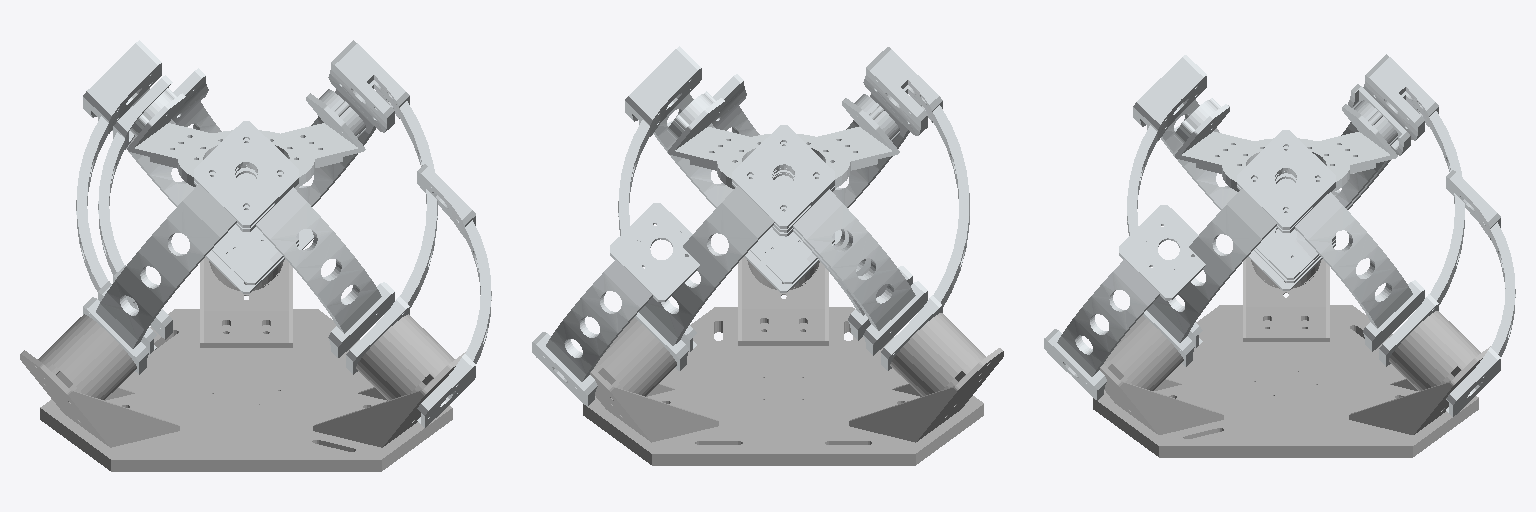
URDF robot description (Spherical_Parallel3.0):
<?xml version="1.0" encoding="utf-8"?>
<!-- This URDF was automatically created by SolidWorks to URDF Exporter! Originally created by Stephen Brawner (brawner@gmail.com) 
     Commit Version: 1.6.0-4-g7f85cfe  Build Version: 1.6.7995.38578
     For more information, please see http://wiki.ros.org/sw_urdf_exporter -->
<robot
  name="Spherical_Parallel3.0">
  <link
    name="S1_base_link">
    <inertial>
      <origin
        xyz="4.83843121955233E-06 -8.38041007873242E-06 0.00921106157110024"
        rpy="0 0 0" />
      <mass
        value="0.383954508133489" />
      <inertia
        ixx="0.000279103390586857"
        ixy="-3.02891552499976E-06"
        ixz="1.56101351748239E-17"
        iyy="0.000282600880973714"
        iyz="1.42980227382568E-16"
        izz="0.000538960992417047" />
    </inertial>
    <visual>
      <origin
        xyz="0 0 0"
        rpy="0 0 0" />
      <geometry>
        <mesh
          filename="package://Spherical_Parallel3.0/meshes/S1_base_link.STL" />
      </geometry>
      <material
        name="">
        <color
          rgba="0.752941176470588 0.752941176470588 0.752941176470588 1" />
      </material>
    </visual>
    <collision>
      <origin
        xyz="0 0 0"
        rpy="0 0 0" />
      <geometry>
        <mesh
          filename="package://Spherical_Parallel3.0/meshes/S1_base_link.STL" />
      </geometry>
    </collision>
  </link>
  <link
    name="S1_base_proximal_Link1">
    <inertial>
      <origin
        xyz="0.0394266555578629 0.0156150450745581 0.0481638125806377"
        rpy="0 0 0" />
      <mass
        value="0.0723708688376402" />
      <inertia
        ixx="5.34836998471512E-05"
        ixy="1.56730810847073E-05"
        ixz="-2.64879755980296E-05"
        iyy="7.75210527903698E-05"
        iyz="-1.04694439328077E-08"
        izz="6.80404042701312E-05" />
    </inertial>
    <visual>
      <origin
        xyz="0 0 0"
        rpy="0 0 0" />
      <geometry>
        <mesh
          filename="package://Spherical_Parallel3.0/meshes/S1_base_proximal_Link1.STL" />
      </geometry>
      <material
        name="">
        <color
          rgba="0.898039215686275 0.917647058823529 0.929411764705882 1" />
      </material>
    </visual>
    <collision>
      <origin
        xyz="0 0 0"
        rpy="0 0 0" />
      <geometry>
        <mesh
          filename="package://Spherical_Parallel3.0/meshes/S1_base_proximal_Link1.STL" />
      </geometry>
    </collision>
  </link>
  <joint
    name="S1_base_proximal_Joint1"
    type="revolute">
    <origin
      xyz="-0.0553071219502084 -1.82236126083718E-05 0.0372072256031851"
      rpy="-0.785398163397445 -0.615479708670383 -2.09439510239319" />
    <parent
      link="S1_base_link" />
    <child
      link="S1_base_proximal_Link1" />
    <axis
      xyz="0 0 -1" />
    <limit
      lower="0"
      upper="0"
      effort="0"
      velocity="0" />
  </joint>
  <link
    name="S1_intermediate_distal_Link1">
    <inertial>
      <origin
        xyz="0.0276162169494415 -2.2103393455819E-09 0.016604279242538"
        rpy="0 0 0" />
      <mass
        value="0.0249434660620518" />
      <inertia
        ixx="1.23287454032943E-05"
        ixy="-3.16358155204649E-13"
        ixz="-1.02513914563365E-05"
        iyy="2.31995059108402E-05"
        iyz="-1.03787602539361E-12"
        izz="1.41903412871279E-05" />
    </inertial>
    <visual>
      <origin
        xyz="0 0 0"
        rpy="0 0 0" />
      <geometry>
        <mesh
          filename="package://Spherical_Parallel3.0/meshes/S1_intermediate_distal_Link1.STL" />
      </geometry>
      <material
        name="">
        <color
          rgba="0.898039215686275 0.917647058823529 0.929411764705882 1" />
      </material>
    </visual>
    <collision>
      <origin
        xyz="0 0 0"
        rpy="0 0 0" />
      <geometry>
        <mesh
          filename="package://Spherical_Parallel3.0/meshes/S1_intermediate_distal_Link1.STL" />
      </geometry>
    </collision>
  </link>
  <joint
    name="S1_intermediate_distal_Joint1"
    type="revolute">
    <origin
      xyz="0 0.0515000000000001 0.06775"
      rpy="1.5707963267949 0 0" />
    <parent
      link="S1_base_proximal_Link1" />
    <child
      link="S1_intermediate_distal_Link1" />
    <axis
      xyz="0 0 1" />
    <limit
      lower="0"
      upper="0"
      effort="0"
      velocity="0" />
  </joint>
  <link
    name="S1_distal_platform_Link1">
    <inertial>
      <origin
        xyz="0 0 0"
        rpy="0 0 0" />
      <mass
        value="0" />
      <inertia
        ixx="1e-9"
        ixy="0"
        ixz="0"
        iyy="1e-9"
        iyz="0"
        izz="1e-9" />
    </inertial>
  </link>
  <joint
    name="S1_distal_platform_Joint1"
    type="revolute">
    <origin
      xyz="0.0555 0 0.0515000000000002"
      rpy="3.14159265358979 1.57079631189374 -2.5042761448487" />
    <parent
      link="S1_intermediate_distal_Link1" />
    <child
      link="S1_distal_platform_Link1" />
    <axis
      xyz="0 0 -1" />
    <limit
      lower="0"
      upper="0"
      effort="0"
      velocity="0" />
  </joint>
  <link
    name="S1_base_proximal_Link2">
    <inertial>
      <origin
        xyz="0.0394266611515091 0.0156150474102847 0.0481638009867669"
        rpy="0 0 0" />
      <mass
        value="0.072370813478773" />
      <inertia
        ixx="5.34836949402529E-05"
        ixy="1.56730710204049E-05"
        ixz="-2.64879777611082E-05"
        iyy="7.75210508818692E-05"
        iyz="-1.04596703085595E-08"
        izz="6.8040392668426E-05" />
    </inertial>
    <visual>
      <origin
        xyz="0 0 0"
        rpy="0 0 0" />
      <geometry>
        <mesh
          filename="package://Spherical_Parallel3.0/meshes/S1_base_proximal_Link2.STL" />
      </geometry>
      <material
        name="">
        <color
          rgba="0.898039215686275 0.917647058823529 0.929411764705882 1" />
      </material>
    </visual>
    <collision>
      <origin
        xyz="0 0 0"
        rpy="0 0 0" />
      <geometry>
        <mesh
          filename="package://Spherical_Parallel3.0/meshes/S1_base_proximal_Link2.STL" />
      </geometry>
    </collision>
  </link>
  <joint
    name="S1_base_proximal_Joint2"
    type="revolute">
    <origin
      xyz="0.0276693430865716 -0.0479247080379969 0.0372072256031854"
      rpy="-0.785398163397448 -0.615479708670388 0" />
    <parent
      link="S1_base_link" />
    <child
      link="S1_base_proximal_Link2" />
    <axis
      xyz="0 0 -1" />
    <limit
      lower="0"
      upper="0"
      effort="0"
      velocity="0" />
  </joint>
  <link
    name="S1_intermediate_distal_Link2">
    <inertial>
      <origin
        xyz="0.0276162724495207 -2.56363465872544E-09 0.0166042770917791"
        rpy="0 0 0" />
      <mass
        value="0.0249434008867252" />
      <inertia
        ixx="1.23287424080632E-05"
        ixy="1.00356953657859E-12"
        ixz="-1.02513872579272E-05"
        iyy="2.31995048527672E-05"
        iyz="-1.19413555056685E-12"
        izz="1.4190346123321E-05" />
    </inertial>
    <visual>
      <origin
        xyz="0 0 0"
        rpy="0 0 0" />
      <geometry>
        <mesh
          filename="package://Spherical_Parallel3.0/meshes/S1_intermediate_distal_Link2.STL" />
      </geometry>
      <material
        name="">
        <color
          rgba="0.898039215686275 0.917647058823529 0.929411764705882 1" />
      </material>
    </visual>
    <collision>
      <origin
        xyz="0 0 0"
        rpy="0 0 0" />
      <geometry>
        <mesh
          filename="package://Spherical_Parallel3.0/meshes/S1_intermediate_distal_Link2.STL" />
      </geometry>
    </collision>
  </link>
  <joint
    name="S1_intermediate_distal_Joint2"
    type="revolute">
    <origin
      xyz="0 0.0515 0.06775"
      rpy="1.5707963267949 0 0" />
    <parent
      link="S1_base_proximal_Link2" />
    <child
      link="S1_intermediate_distal_Link2" />
    <axis
      xyz="0 0 1" />
    <limit
      lower="0"
      upper="0"
      effort="0"
      velocity="0" />
  </joint>
  <link
    name="S1_distal_platform_Link2">
    <inertial>
      <origin
        xyz="0 0 0"
        rpy="0 0 0" />
      <mass
        value="0" />
      <inertia
        ixx="1e-9"
        ixy="0"
        ixz="0"
        iyy="1e-9"
        iyz="0"
        izz="1e-9" />
    </inertial>
  </link>
  <joint
    name="S1_distal_platform_Joint2"
    type="revolute">
    <origin
      xyz="0.0555 0 0.0515000000000002"
      rpy="3.14159263251637 1.5707963267949 0" />
    <parent
      link="S1_intermediate_distal_Link2" />
    <child
      link="S1_distal_platform_Link2" />
    <axis
      xyz="0 0 1" />
    <limit
      lower="0"
      upper="0"
      effort="0"
      velocity="0" />
  </joint>
  <link
    name="S1_base_proximal_Link3">
    <inertial>
      <origin
        xyz="0.0394266547391432 0.0156150168228698 0.0481637981881163"
        rpy="0 0 0" />
      <mass
        value="0.0723709631846189" />
      <inertia
        ixx="5.34837990510187E-05"
        ixy="1.56730722644498E-05"
        ixz="-2.64880476589497E-05"
        iyy="7.75212034209213E-05"
        iyz="-1.04670720804903E-08"
        izz="6.80404534420661E-05" />
    </inertial>
    <visual>
      <origin
        xyz="0 0 0"
        rpy="0 0 0" />
      <geometry>
        <mesh
          filename="package://Spherical_Parallel3.0/meshes/S1_base_proximal_Link3.STL" />
      </geometry>
      <material
        name="">
        <color
          rgba="0.898039215686275 0.917647058823529 0.929411764705882 1" />
      </material>
    </visual>
    <collision>
      <origin
        xyz="0 0 0"
        rpy="0 0 0" />
      <geometry>
        <mesh
          filename="package://Spherical_Parallel3.0/meshes/S1_base_proximal_Link3.STL" />
      </geometry>
    </collision>
  </link>
  <joint
    name="S1_base_proximal_Joint3"
    type="revolute">
    <origin
      xyz="0.0276693430865719 0.0478882608127805 0.0372072256031854"
      rpy="-0.785398163397455 -0.615479708670384 2.0943951023932" />
    <parent
      link="S1_base_link" />
    <child
      link="S1_base_proximal_Link3" />
    <axis
      xyz="0 0 -1" />
    <limit
      lower="0"
      upper="0"
      effort="0"
      velocity="0" />
  </joint>
  <link
    name="S1_intermediate_distal_Link3">
    <inertial>
      <origin
        xyz="0.0276162699864968 -5.75903416275003E-09 0.0166042723305424"
        rpy="0 0 0" />
      <mass
        value="0.0249434138951247" />
      <inertia
        ixx="1.2328741879394E-05"
        ixy="-1.74451381270051E-12"
        ixz="-1.02513859626617E-05"
        iyy="2.31995018577349E-05"
        iyz="-1.15965213593531E-12"
        izz="1.41903422898734E-05" />
    </inertial>
    <visual>
      <origin
        xyz="0 0 0"
        rpy="0 0 0" />
      <geometry>
        <mesh
          filename="package://Spherical_Parallel3.0/meshes/S1_intermediate_distal_Link3.STL" />
      </geometry>
      <material
        name="">
        <color
          rgba="0.898039215686275 0.917647058823529 0.929411764705882 1" />
      </material>
    </visual>
    <collision>
      <origin
        xyz="0 0 0"
        rpy="0 0 0" />
      <geometry>
        <mesh
          filename="package://Spherical_Parallel3.0/meshes/S1_intermediate_distal_Link3.STL" />
      </geometry>
    </collision>
  </link>
  <joint
    name="S1_intermediate_distal_Joint3"
    type="revolute">
    <origin
      xyz="0 0.0514999999999999 0.0677500000000001"
      rpy="1.5707963267949 0 0" />
    <parent
      link="S1_base_proximal_Link3" />
    <child
      link="S1_intermediate_distal_Link3" />
    <axis
      xyz="0 0 1" />
    <limit
      lower="0"
      upper="0"
      effort="0"
      velocity="0" />
  </joint>
  <link
    name="S1_distal_platform_Link3">
    <inertial>
      <origin
        xyz="-0.0130772772289899 -0.0130772772289899 0.0424227227710099"
        rpy="0 0 0" />
      <mass
        value="0.0449010465380491" />
      <inertia
        ixx="8.16628762450826E-06"
        ixy="1.65084933290385E-06"
        ixz="1.65084933290384E-06"
        iyy="8.16628762450826E-06"
        iyz="1.65084933290385E-06"
        izz="8.16628762450824E-06" />
    </inertial>
    <visual>
      <origin
        xyz="0 0 0"
        rpy="0 0 0" />
      <geometry>
        <mesh
          filename="package://Spherical_Parallel3.0/meshes/S1_distal_platform_Link3.STL" />
      </geometry>
      <material
        name="">
        <color
          rgba="0.898039215686275 0.917647058823529 0.929411764705882 1" />
      </material>
    </visual>
    <collision>
      <origin
        xyz="0 0 0"
        rpy="0 0 0" />
      <geometry>
        <mesh
          filename="package://Spherical_Parallel3.0/meshes/S1_distal_platform_Link3.STL" />
      </geometry>
    </collision>
  </link>
  <joint
    name="S1_distal_platform_Joint3"
    type="revolute">
    <origin
      xyz="0.0555 0 0.0515000000000002"
      rpy="3.14159262778022 1.5707963267949 0" />
    <parent
      link="S1_intermediate_distal_Link3" />
    <child
      link="S1_distal_platform_Link3" />
    <axis
      xyz="0 0 1" />
    <limit
      lower="0"
      upper="0"
      effort="0"
      velocity="0" />
  </joint>
</robot>

--- What the picture shows (computed from the rendered views, not written in the file) ---
3 views of the same robot in one strip: view 1: azimuth 30°, elevation 25°; view 2: azimuth 150°, elevation 25°; view 3: azimuth 270°, elevation 25° (orthographic).
Robot: Spherical_Parallel3.0 — 10 links, 9 joints (9 revolute); root link S1_base_link; default pose: all joints at 0.
Links seen in each view (by area): view 1: S1_base_link, S1_base_proximal_Link1, S1_base_proximal_Link2, S1_distal_platform_Link3, S1_base_proximal_Link3, S1_intermediate_distal_Link1, S1_intermediate_distal_Link3, S1_intermediate_distal_Link2; view 2: S1_base_link, S1_base_proximal_Link3, S1_intermediate_distal_Link2, S1_base_proximal_Link1, S1_distal_platform_Link3, S1_base_proximal_Link2, S1_intermediate_distal_Link1, S1_intermediate_distal_Link3; view 3: S1_base_link, S1_base_proximal_Link2, S1_intermediate_distal_Link1, S1_distal_platform_Link3, S1_base_proximal_Link3, S1_base_proximal_Link1, S1_intermediate_distal_Link2, S1_intermediate_distal_Link3.
Boxes of the visible links, box(x1,y1,x2,y2) form: S1_base_link: box(20, 257, 465, 471); S1_base_proximal_Link1: box(83, 121, 394, 374); S1_base_proximal_Link2: box(212, 40, 437, 374); S1_distal_platform_Link3: box(127, 88, 365, 188); S1_base_proximal_Link3: box(76, 40, 298, 354); S1_intermediate_distal_Link1: box(417, 164, 491, 427); S1_intermediate_distal_Link3: box(98, 75, 172, 339); S1_intermediate_distal_Link2: box(172, 68, 313, 249); S1_base_link: box(583, 257, 1003, 465); S1_base_proximal_Link3: box(634, 125, 927, 370); S1_intermediate_distal_Link2: box(532, 203, 699, 406); S1_base_proximal_Link1: box(750, 47, 969, 370); S1_distal_platform_Link3: box(667, 91, 899, 188); S1_base_proximal_Link2: box(618, 46, 834, 351); S1_intermediate_distal_Link1: box(711, 74, 841, 243); S1_intermediate_distal_Link3: box(772, 146, 912, 340); S1_base_link: box(1093, 257, 1490, 457); S1_base_proximal_Link2: box(1143, 130, 1424, 366); S1_intermediate_distal_Link1: box(1044, 205, 1205, 400); S1_distal_platform_Link3: box(1174, 98, 1397, 192); S1_base_proximal_Link3: box(1254, 54, 1464, 366); S1_base_proximal_Link1: box(1127, 55, 1335, 348); S1_intermediate_distal_Link2: box(1446, 170, 1515, 416); S1_intermediate_distal_Link3: box(1256, 84, 1410, 279).
Bounding box of the posed robot: 0.166 × 0.1888 × 0.1389 m (x, y, z).
Meshes: 8 distinct files referenced, 8 mesh visuals loaded (8 binary STL).
